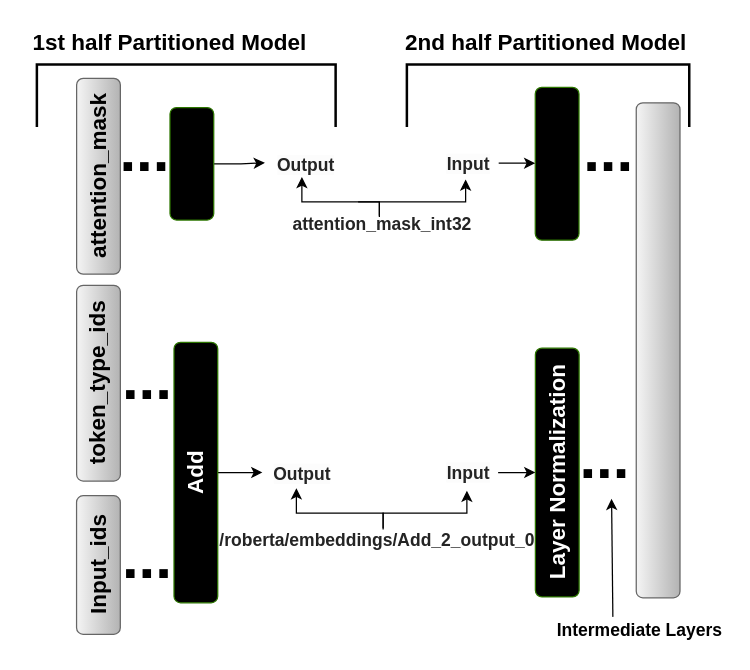
The diagram is 750 pixels wide and 670 high, and some of its shapes have lost their labels. The shapes that lost their labels are listed below. From the top down, each one's centre as x and y in pixels, then its label:
At point 191,163: "Cast".
At point 556,163: "ReduceSum".
At point 657,350: "Logits".
